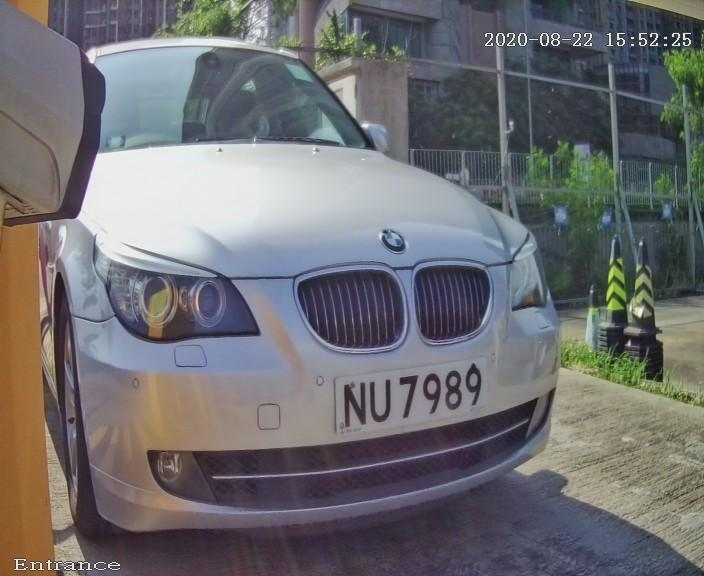Car: (19, 16, 595, 569)
License Plate: (291, 333, 534, 460)
